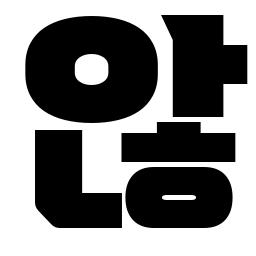Gaji: (162, 36, 239, 100)
